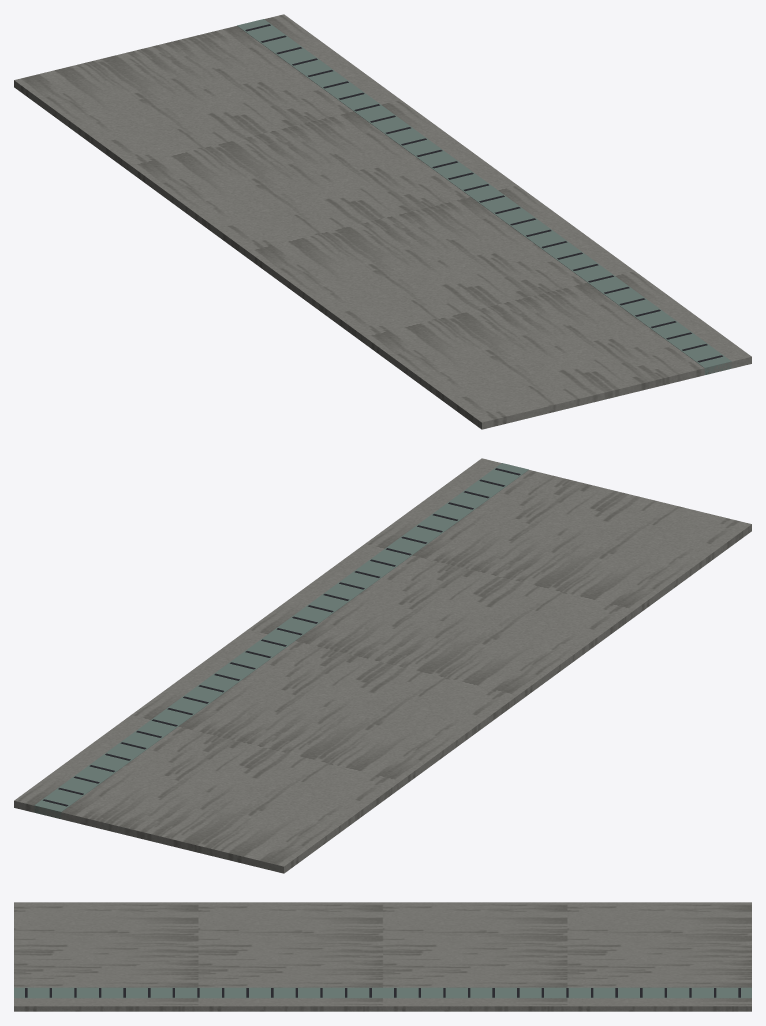
Rendered from alley_floor.glb.
3 renders of one model, top to bottom at view 1: azimuth 30°, elevation 25°; view 2: azimuth 150°, elevation 25°; view 3: azimuth 270°, elevation 25°, orthographic. The views are drawn at different scales.
Parts seen in each view (by area): view 1: alley_floor; view 2: alley_floor; view 3: alley_floor.
Boxes of the visible parts, x1,y1,x2,y2 form: alley_floor: [14, 14, 751, 429]; alley_floor: [14, 458, 751, 873]; alley_floor: [14, 902, 751, 1011].
Bounding box in the file's own units: 2 × 0.069 × 6.
4 materials, 1 textured.
